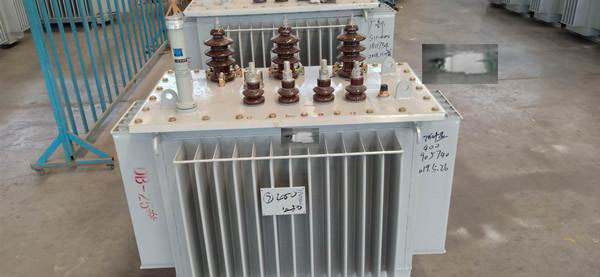oil: (425, 40, 497, 78)
